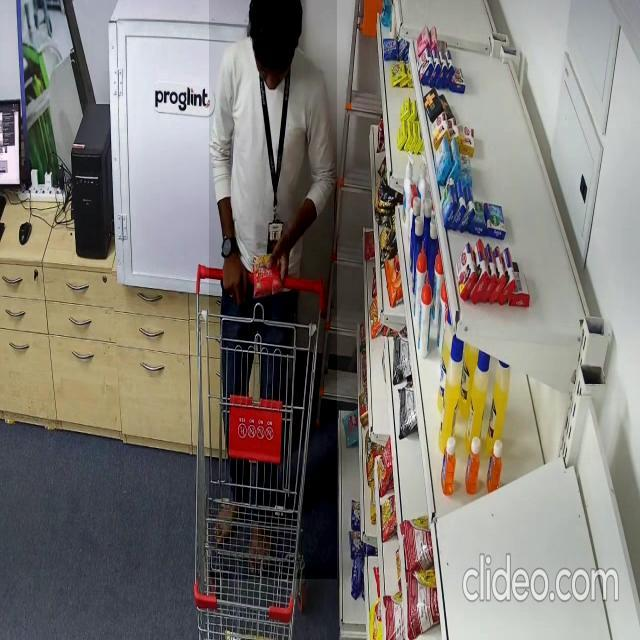normal: (209, 0, 337, 579)
